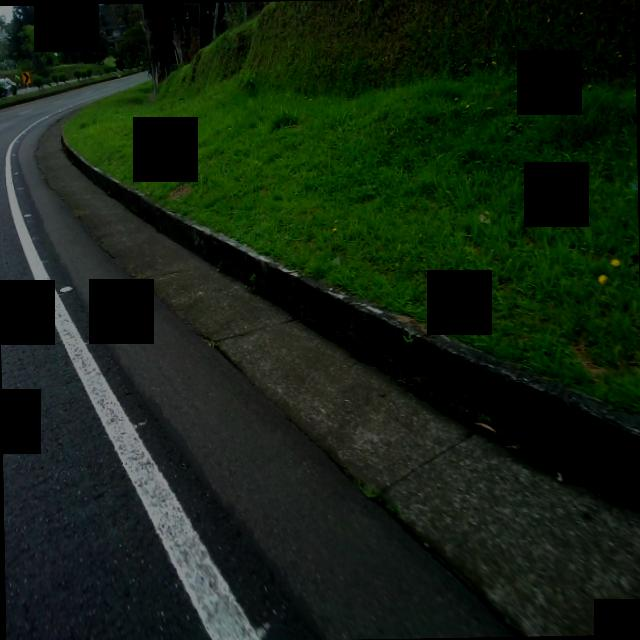DITCH: (21, 63, 640, 640), (0, 97, 640, 640)
